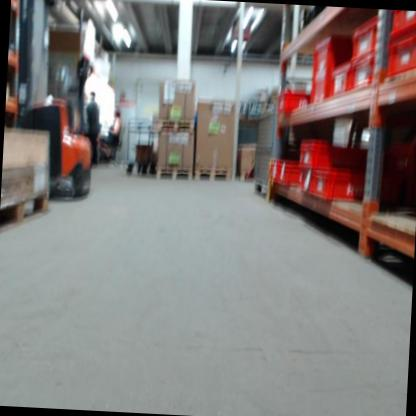pallet: (0, 189, 49, 237), (157, 118, 196, 134), (193, 166, 231, 182), (154, 167, 193, 182)
pallet_truck: (7, 0, 105, 204)
small_load_carrier: (309, 32, 354, 105), (335, 48, 384, 106), (308, 166, 367, 202), (349, 13, 386, 60), (382, 26, 416, 75), (296, 137, 338, 170), (327, 54, 353, 98), (277, 89, 315, 119), (382, 10, 416, 43), (295, 166, 324, 195), (278, 159, 303, 184), (265, 162, 280, 185)
stillage: (250, 105, 284, 198)
